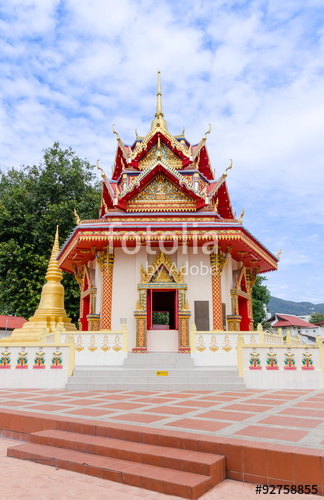Buddhist Temple: (33, 76, 268, 378)
